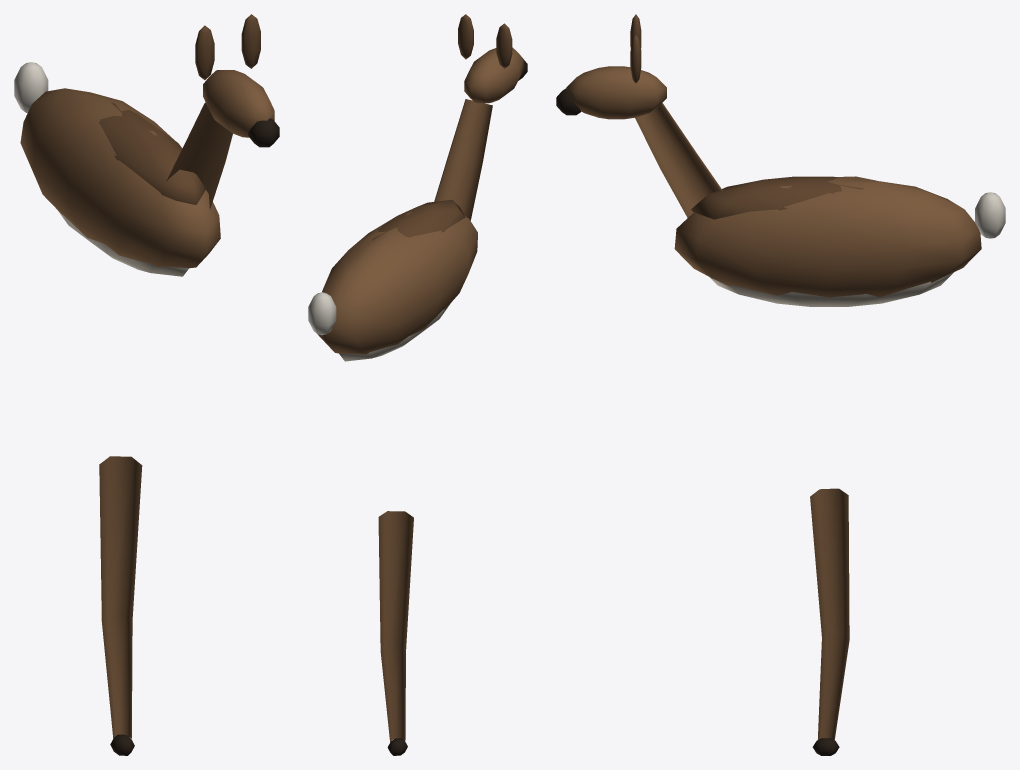
Rendered from caral_deer.glb.
3 renders of one model, left to right at view 1: azimuth 30°, elevation 25°; view 2: azimuth 150°, elevation 25°; view 3: azimuth 270°, elevation 25°, orthographic. The views are drawn at different scales.
Parts seen in each view (by area): view 1: body, leg; view 2: body, leg; view 3: body, leg.
Part boxes in pixels (box(x1,y1,x2,y2)): body: box(14, 14, 279, 276); leg: box(99, 456, 142, 755); body: box(308, 14, 527, 361); leg: box(378, 511, 413, 755); body: box(556, 14, 1005, 306); leg: box(810, 488, 849, 755).
Size of the model in its own units: 0.335 by 2.5 by 1.4.
